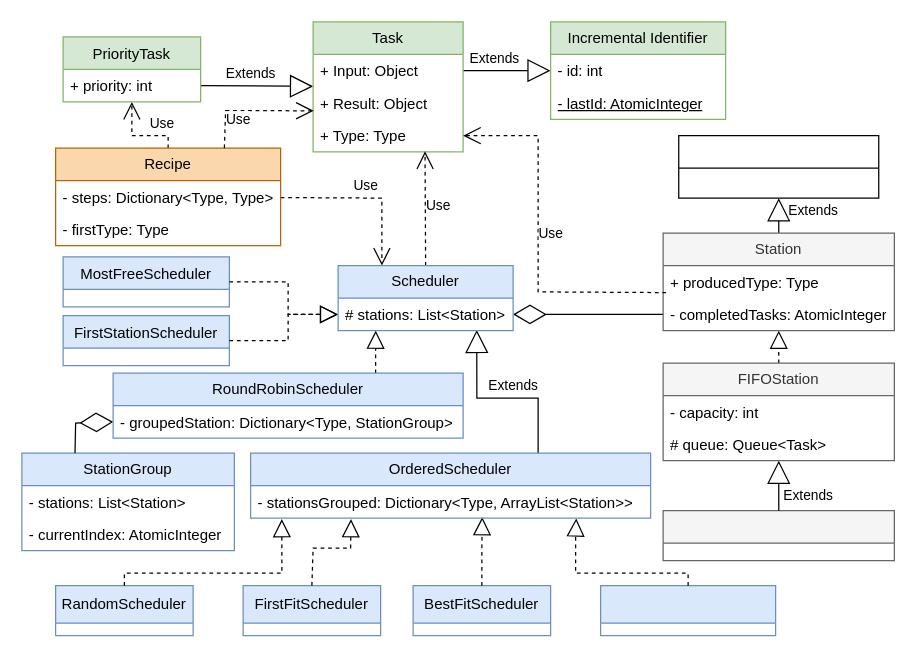
This 916x658 diagram has some shape labels left out. Here are the shapes that lost their labels. From the top down, the centre of each, then its label:
At [778,166]: "java.lang.Thread".
At [778,535]: "PriorityStation".
At [687,610]: "WorstFitScheduler".
